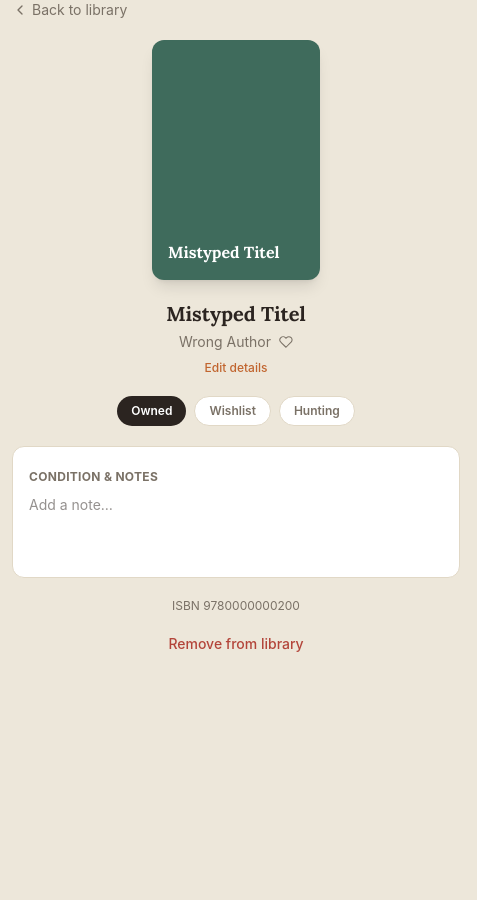
Test: BookDetailPage edit details › cancels out of edit mode without saving
Expected: the heading "Mistyped Titel" is shown, [166,300,306,328]
Click the button "Edit details" at (236, 368), box [204,360,267,376]
(page scrolled)
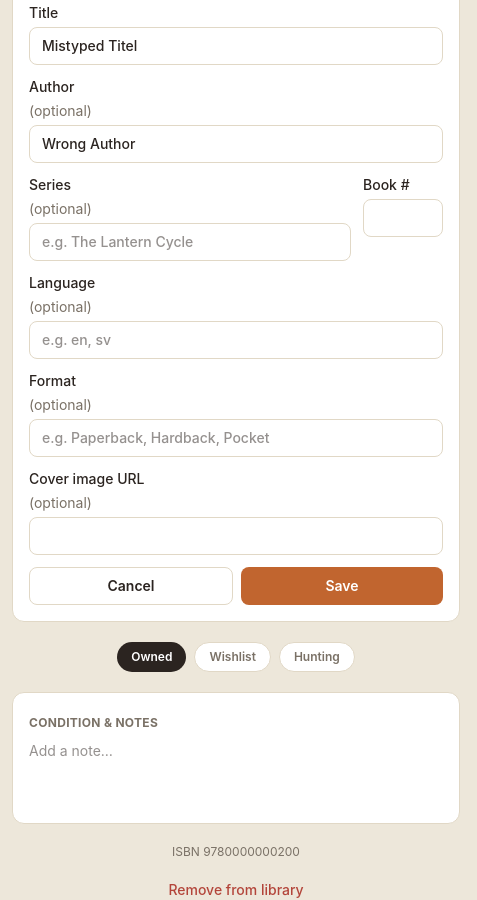
Expected: the field labelled "Title" is shown, [29,27,443,65]
Click the button "Cancel" at (131, 586), box [29,567,233,605]
(page scrolled)
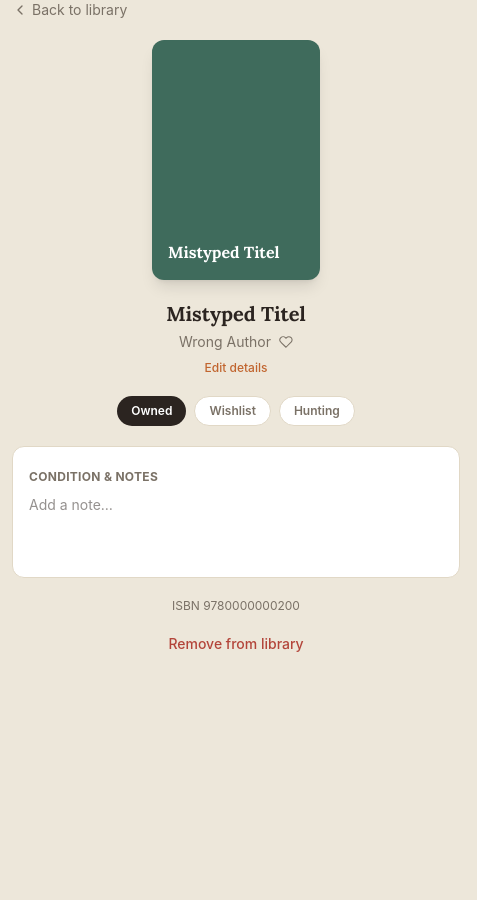
Expected: the label labelled "Title" is gone
Expected: the heading "Mistyped Titel" is shown, [166,300,306,328]
